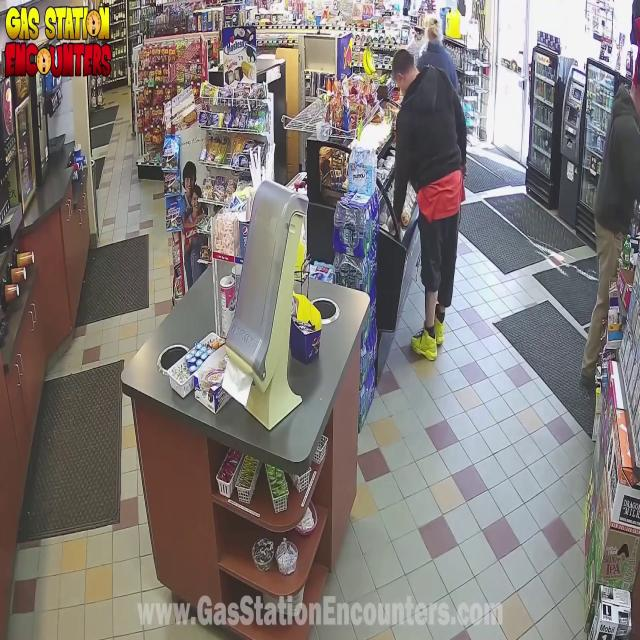normal: (382, 36, 476, 388), (601, 42, 640, 255), (416, 13, 441, 63)
